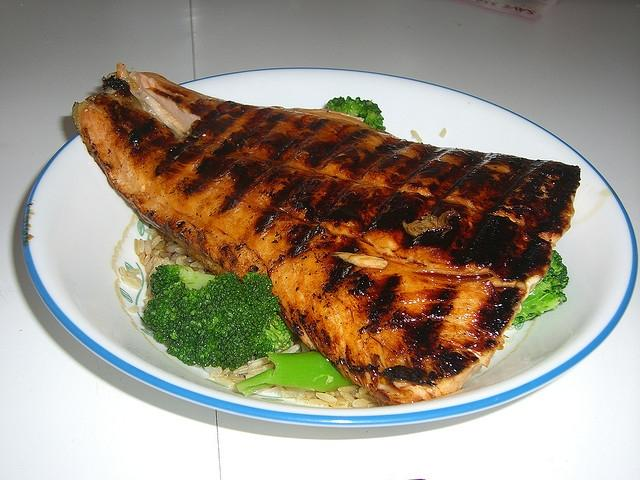broccoli: (144, 264, 298, 370), (235, 350, 352, 398), (514, 251, 568, 324), (326, 96, 386, 131)
